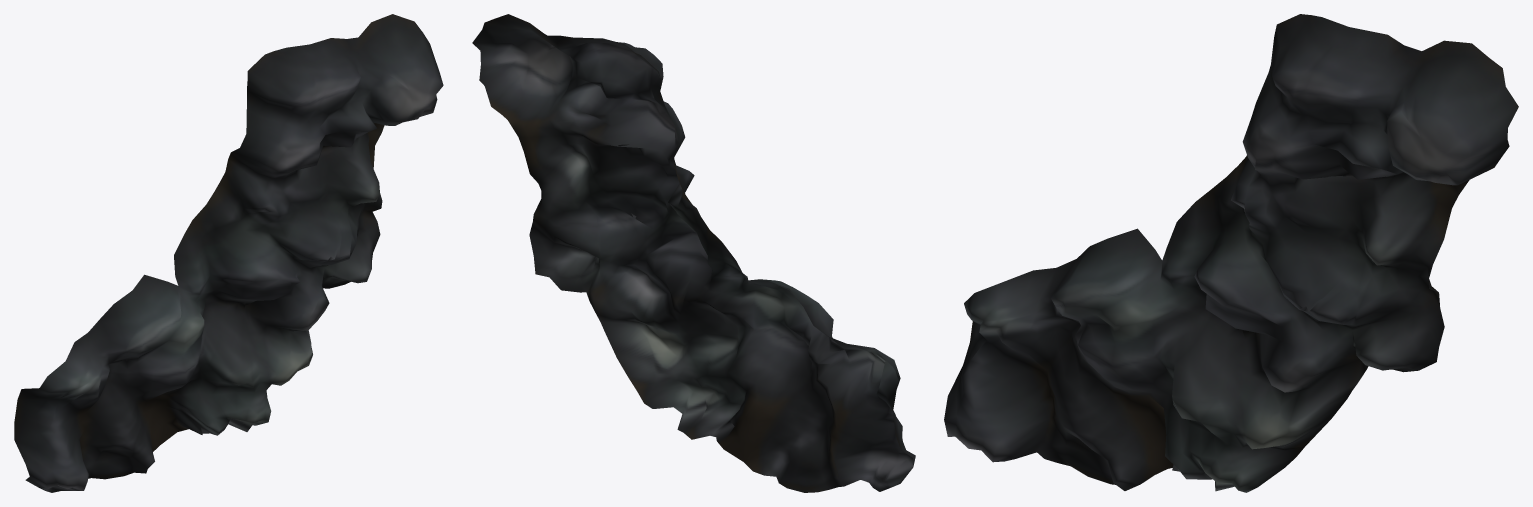
File: Mussels03.fbx
3 renders of one model, left to right at view 1: azimuth 30°, elevation 25°; view 2: azimuth 150°, elevation 25°; view 3: azimuth 330°, elevation 25°, orthographic. The views are drawn at different scales.
Parts seen in each view (by area): view 1: Mussels03; view 2: Mussels03; view 3: Mussels03.
Part boxes in pixels (<box>): Mussels03: <box>14,14,443,492</box>; Mussels03: <box>472,14,915,492</box>; Mussels03: <box>944,14,1518,492</box>.
Bounding box in the file's own units: 55.2 × 50.12 × 8.56.
